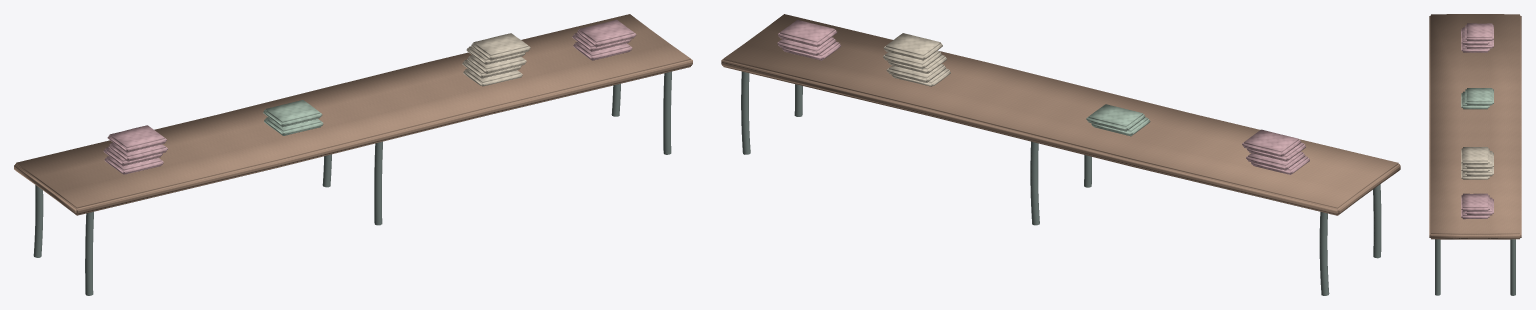
The model's file is Table.glb.
The picture shows the model from 3 angles, left to right: view 1: azimuth 30°, elevation 25°; view 2: azimuth 150°, elevation 25°; view 3: azimuth 270°, elevation 25°; orthographic projection. The views are drawn at different scales.
Visible parts, largest first — view 1: Plateau, Pieds, Linge_2, Linge_0, Linge_3, Linge_1; view 2: Plateau, Pieds, Linge_2, Linge_0, Linge_3, Linge_1; view 3: Plateau, Linge_2, Linge_0, Linge_3, Pieds, Linge_1.
Part boxes in pixels (<box>): Plateau: <box>14,14,692,215</box>; Pieds: <box>33,71,671,295</box>; Linge_2: <box>462,33,530,86</box>; Linge_0: <box>103,125,167,174</box>; Linge_3: <box>572,19,636,60</box>; Linge_1: <box>263,100,323,135</box>; Plateau: <box>721,14,1400,215</box>; Pieds: <box>741,71,1381,295</box>; Linge_2: <box>883,33,950,86</box>; Linge_0: <box>1242,129,1309,174</box>; Linge_3: <box>777,19,840,60</box>; Linge_1: <box>1086,104,1150,136</box>; Plateau: <box>1429,14,1521,239</box>; Linge_2: <box>1461,147,1493,179</box>; Linge_0: <box>1461,23,1493,52</box>; Linge_3: <box>1461,193,1493,219</box>; Pieds: <box>1435,239,1515,295</box>; Linge_1: <box>1461,88,1493,109</box>.
Size of the model in its own units: 6.2 by 1.2 by 1.1.
Materials: 5 (4 with a texture image).
